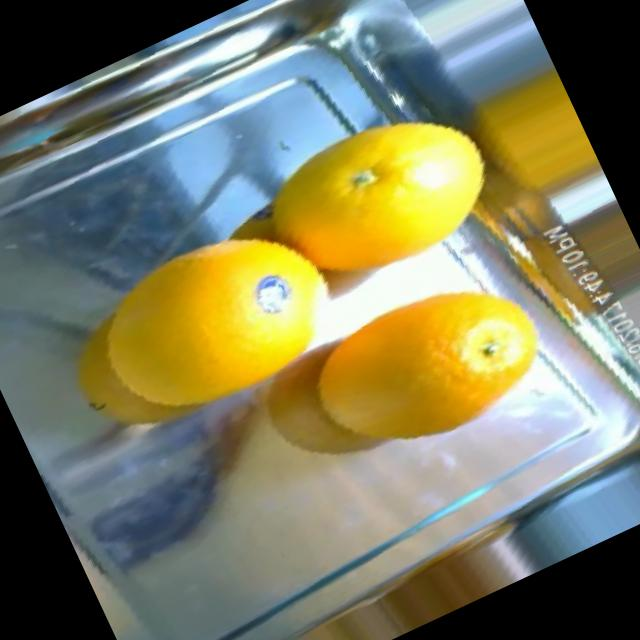Fruit: (32, 249, 271, 477), (292, 76, 522, 285)
